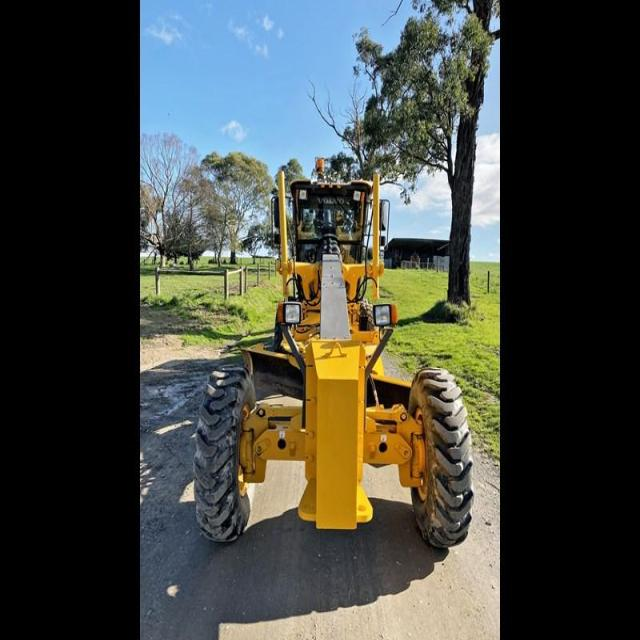buldozerpayloadergrader: (190, 156, 480, 554)
